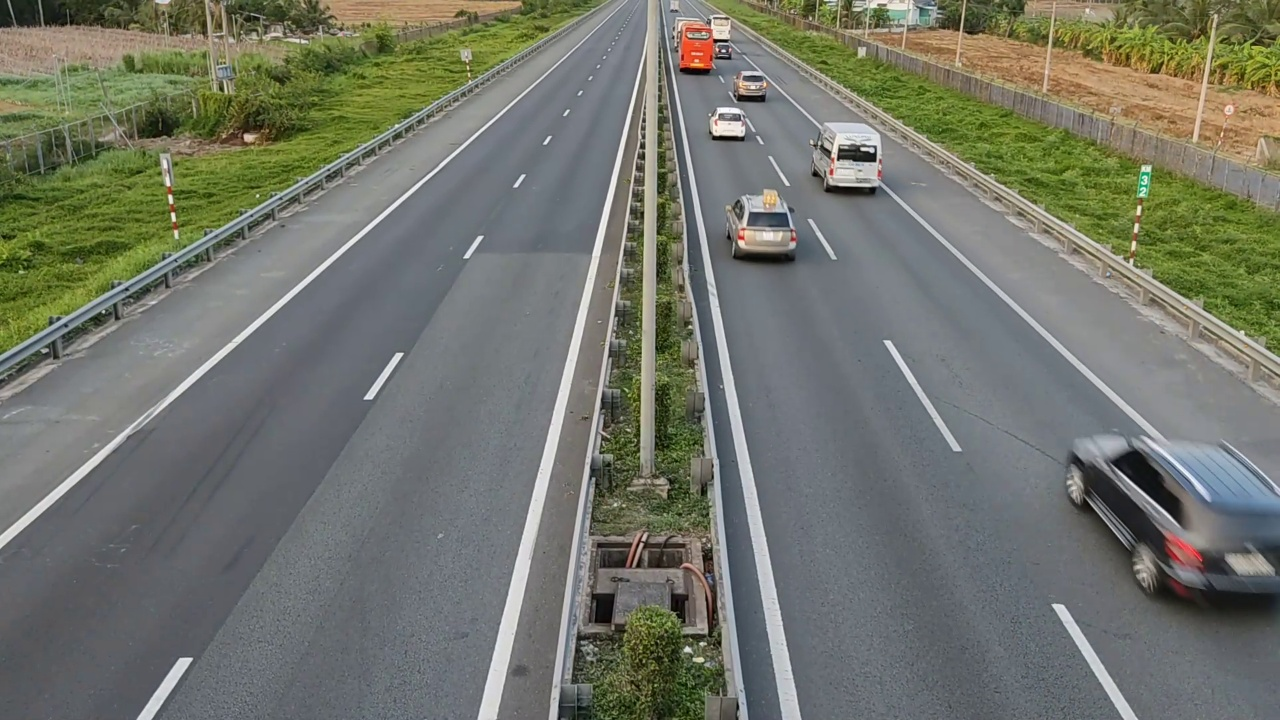car: (1064, 429, 1280, 609), (809, 120, 883, 193), (723, 190, 799, 261), (707, 106, 748, 140), (731, 70, 769, 101)
